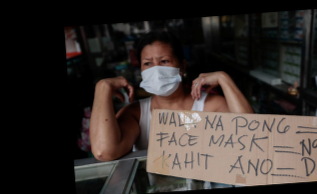with_mask: (138, 53, 183, 97)
